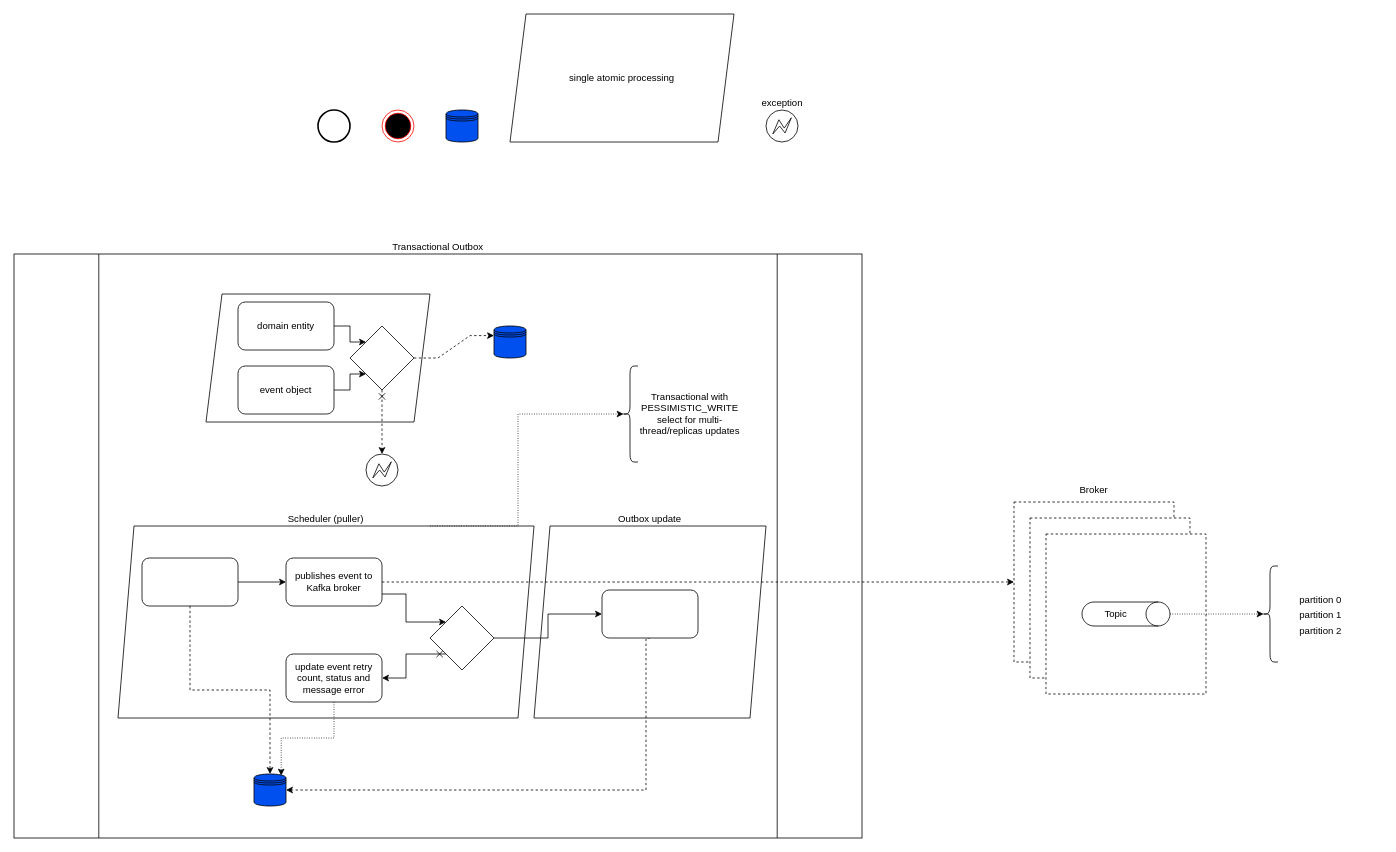
The diagram is 1396 pixels wide and 852 high, and some of its shapes have lost their labels. The shapes that lost their labels are listed below. From the top down, each one's centre as x and y in pixels, then its label:
At point (461, 125): "data store".
At point (381, 357): "both operations succeed?".
At point (189, 581): "pulls un-published events".
At point (649, 613): "removes event from outbox table".
At point (461, 637): "event published?".
